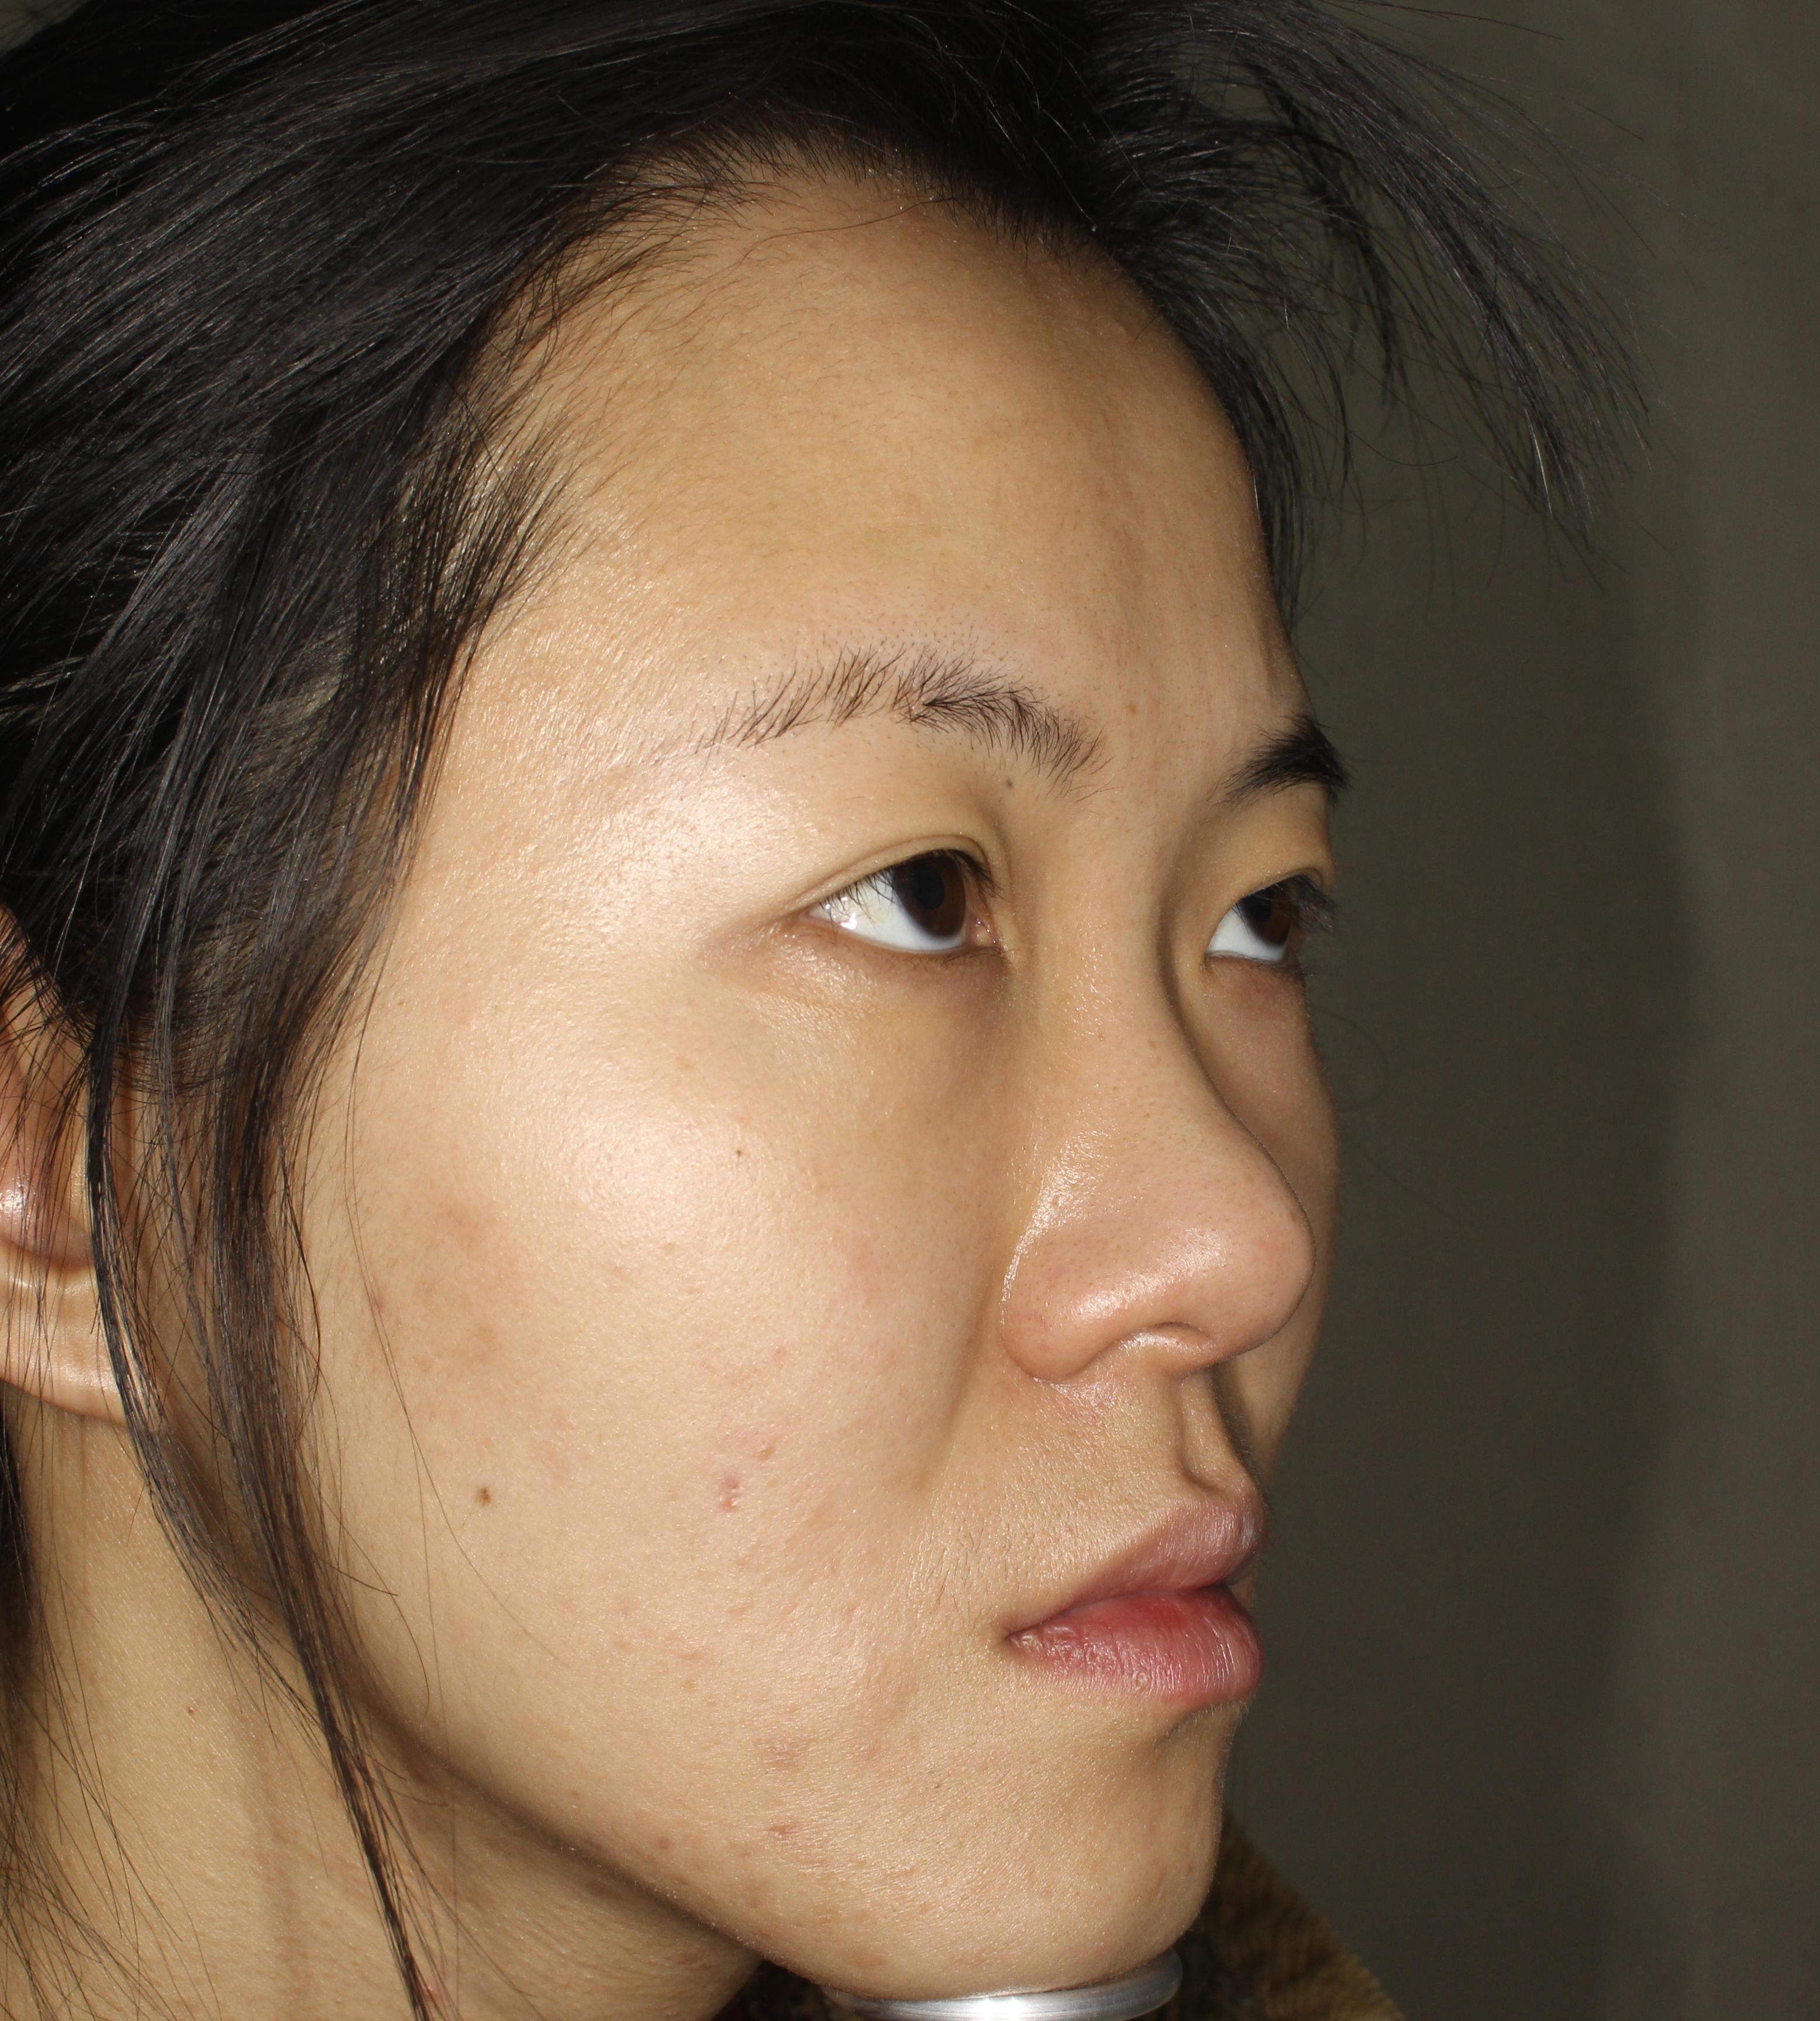fore: (727, 1693, 817, 1791), (629, 1786, 704, 1886)
